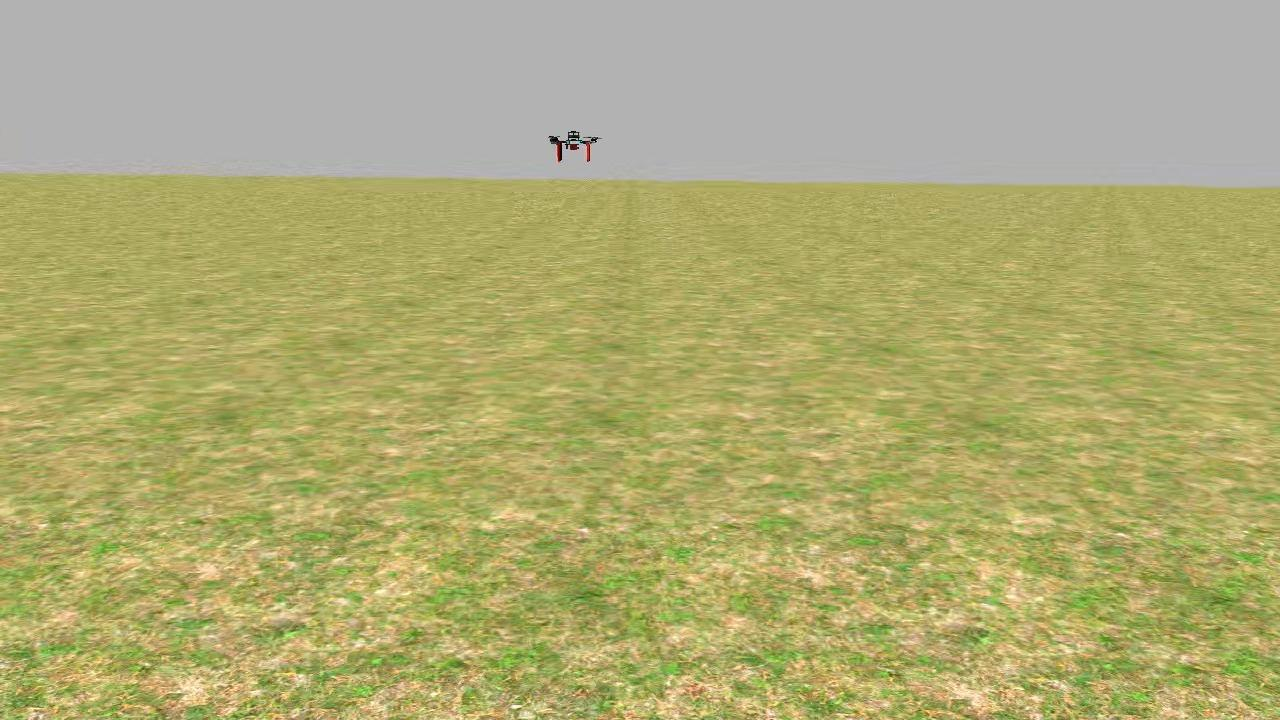UAV: (541, 117, 606, 168)
